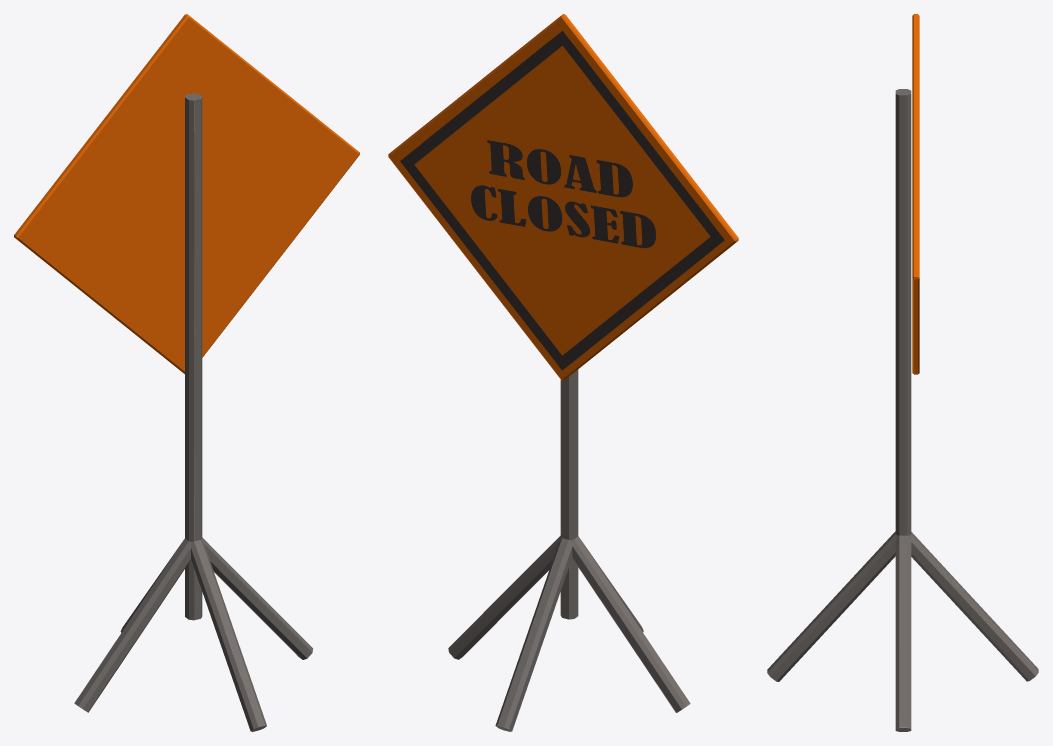
The model's file is RoadBlock_4.fbx.
3 renders of one model, left to right at view 1: azimuth 30°, elevation 25°; view 2: azimuth 150°, elevation 25°; view 3: azimuth 270°, elevation 25°, orthographic.
Parts seen in each view (by area): view 1: pasted__pCube1, pasted__pasted__pCube3, pasted__pasted__pasted__pCube3 (×2), pasted__pasted__pasted__pasted__pCube3; view 2: pasted__pCube1, pasted__pasted__pCube3, pasted__pasted__pasted__pasted__pasted__pCube3, pasted__pasted__pasted__pCube3, pasted__pasted__pasted__pasted__pCube3; view 3: pasted__pasted__pCube3, pasted__pasted__pasted__pasted__pCube3, pasted__pasted__pasted__pCube3, pasted__pasted__pasted__pasted__pasted__pCube3, pasted__pCube1.
Part boxes in pixels (x1,y1,x2,y2): pasted__pCube1: [14, 14, 359, 373]; pasted__pasted__pCube3: [185, 93, 202, 620]; pasted__pasted__pasted__pCube3 (×2): [74, 538, 266, 731]; pasted__pasted__pasted__pasted__pCube3: [201, 537, 313, 659]; pasted__pCube1: [388, 14, 738, 380]; pasted__pasted__pCube3: [560, 369, 578, 619]; pasted__pasted__pasted__pasted__pasted__pCube3: [495, 538, 572, 731]; pasted__pasted__pasted__pCube3: [571, 536, 690, 712]; pasted__pasted__pasted__pasted__pCube3: [448, 535, 561, 659]; pasted__pasted__pCube3: [895, 89, 911, 535]; pasted__pasted__pasted__pasted__pCube3: [895, 535, 911, 731]; pasted__pasted__pasted__pCube3: [767, 531, 897, 681]; pasted__pasted__pasted__pasted__pasted__pCube3: [910, 532, 1038, 681]; pasted__pCube1: [912, 14, 919, 374].
Bounding box in the file's own units: 303 × 561 × 207.
1 material, 1 textured.
